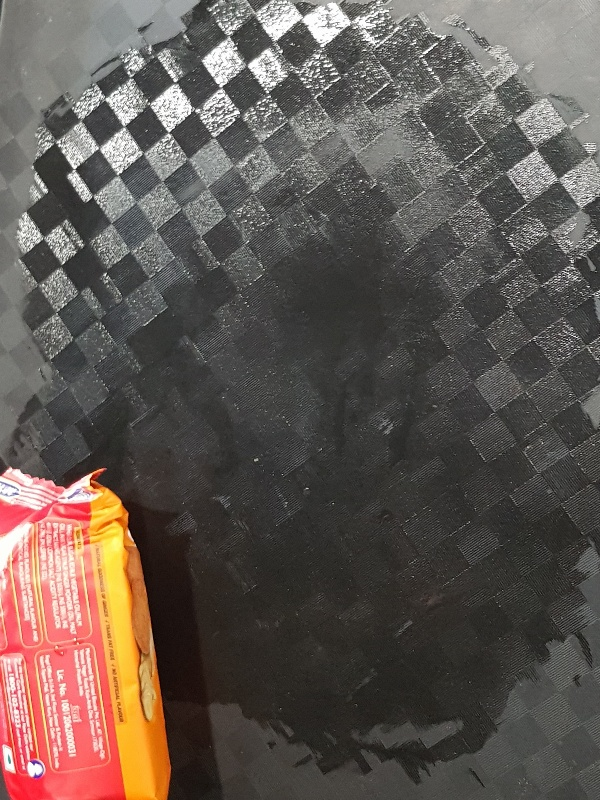McVitie's Ginger Cookies: (1, 462, 172, 800)
